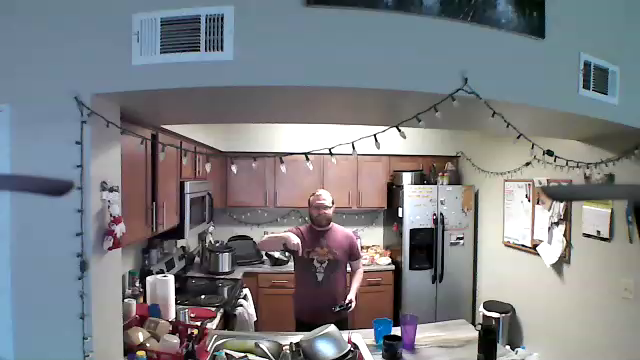down: (283, 225, 305, 257)
